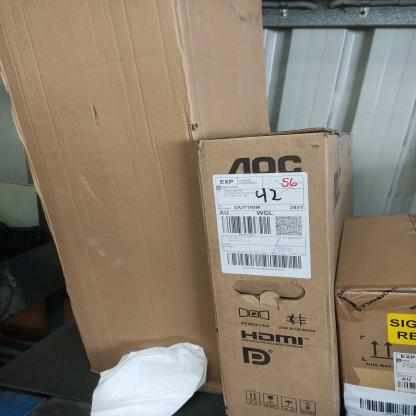label: (214, 170, 316, 284), (342, 382, 416, 416), (389, 349, 416, 394)
package: (0, 0, 276, 394), (197, 131, 351, 416), (336, 213, 416, 416)
